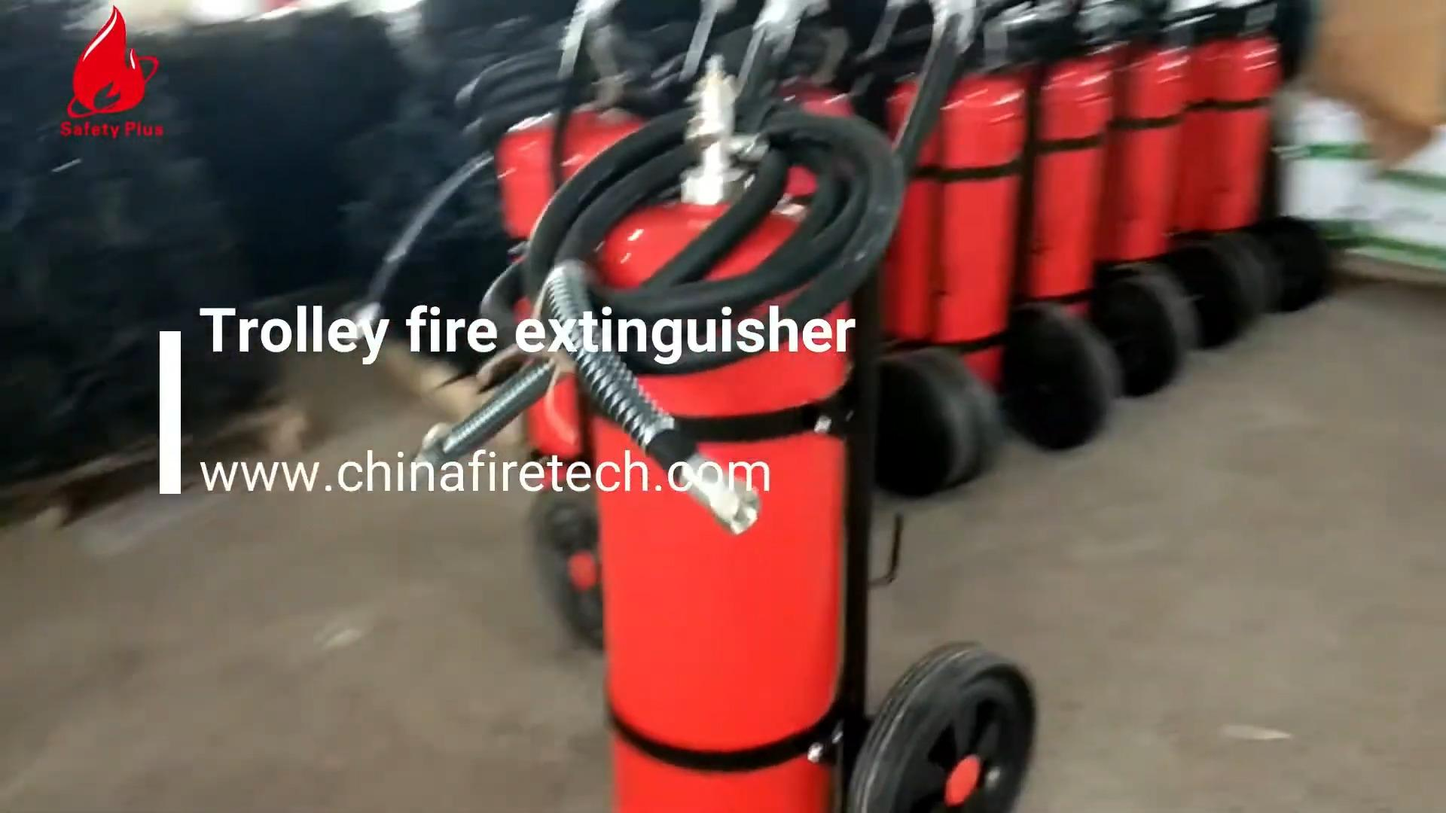FireExtinguisher: (548, 157, 868, 813), (740, 40, 1028, 504), (456, 78, 644, 511), (1063, 0, 1202, 409), (1151, 0, 1303, 366), (1002, 6, 1109, 451)
